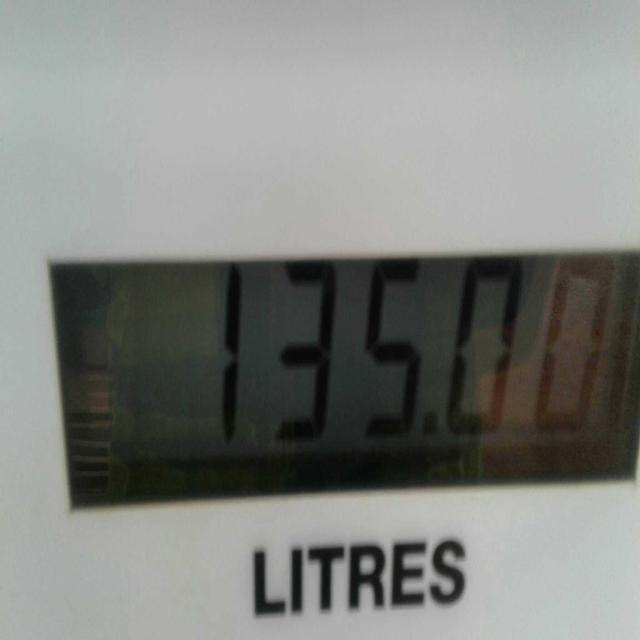.: (428, 406, 440, 426)
0: (528, 258, 608, 436), (444, 264, 515, 453)
1: (219, 262, 246, 444)
3: (278, 260, 330, 443)
5: (364, 257, 422, 439)
